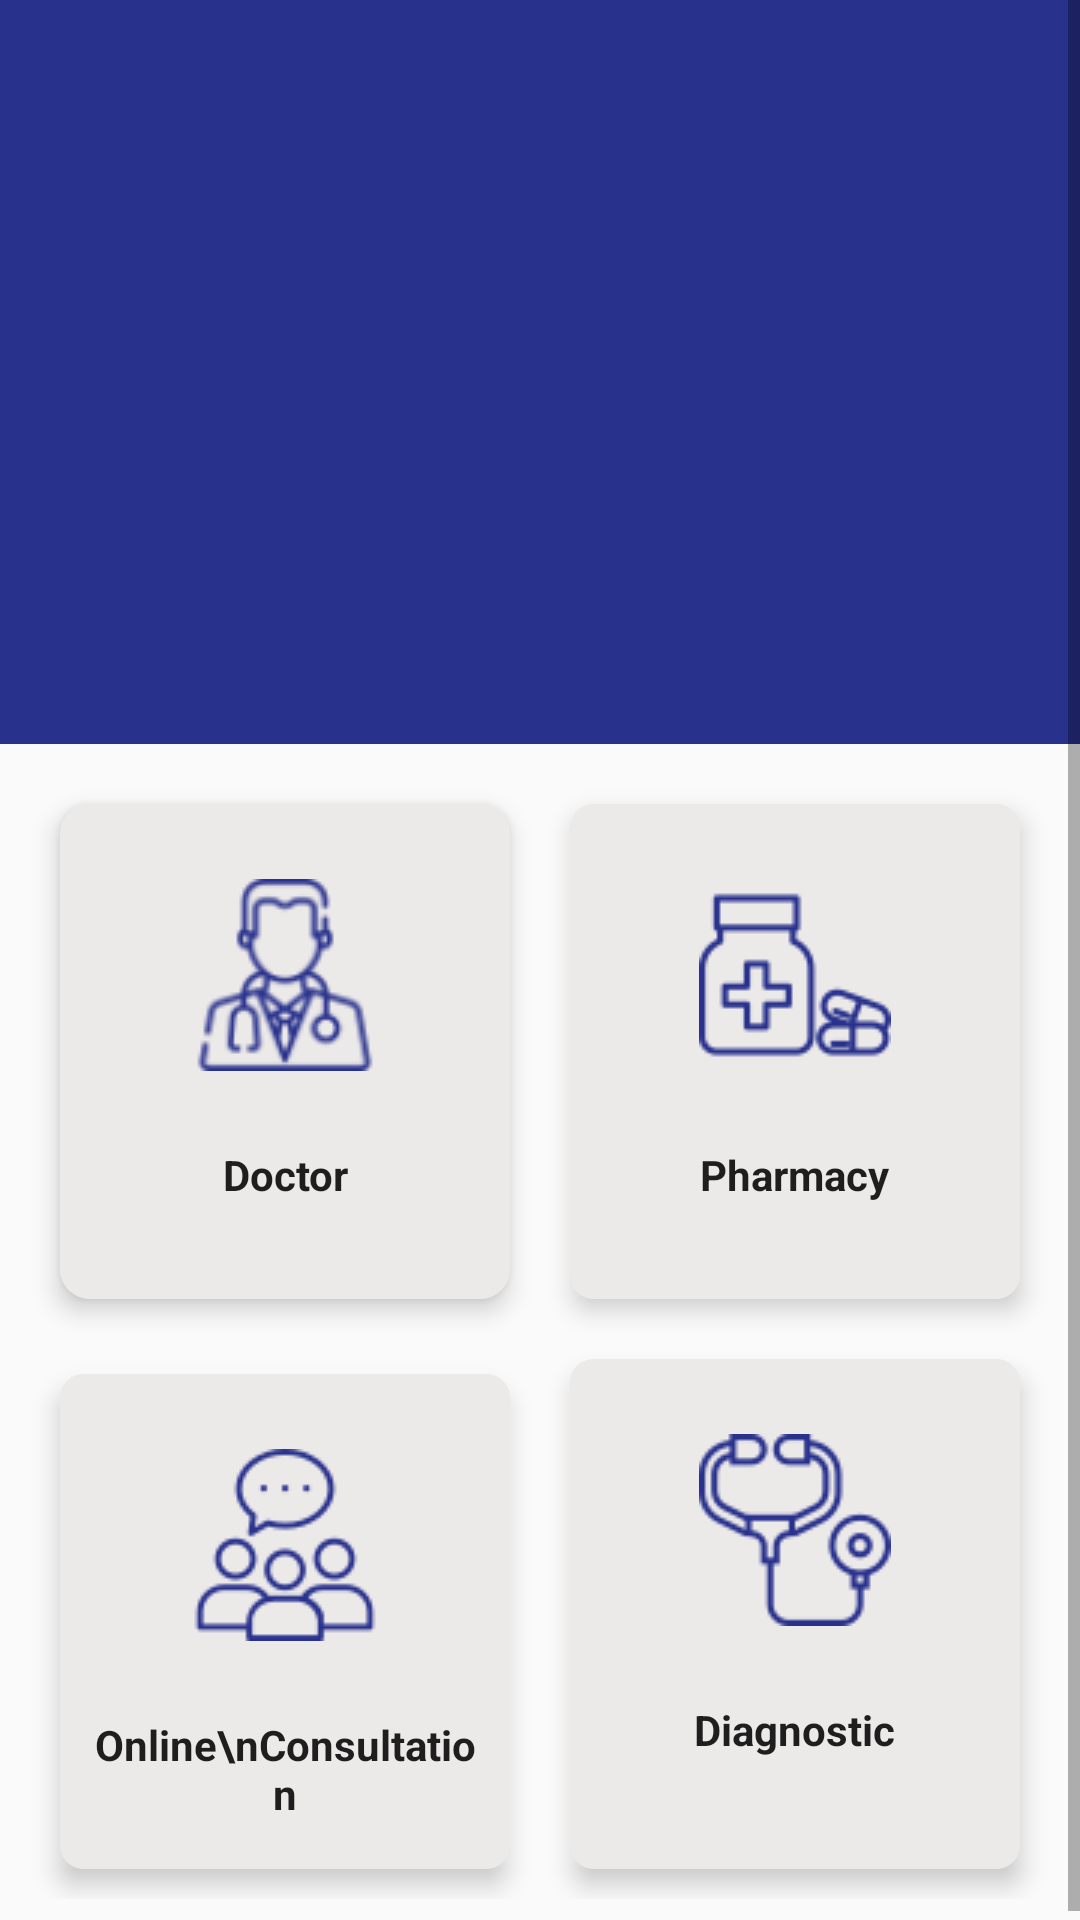

Screen size 1080×1920. Icon name, then its center in pixels as (x=x, y=y):
chat: (x=285, y=1545)
